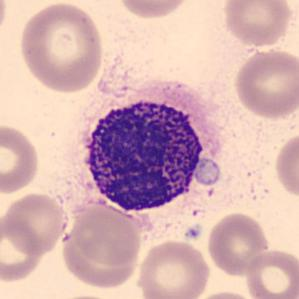Basophil: (72, 85, 213, 220)
Platelets: (182, 224, 204, 241)
RBC: (17, 0, 106, 95), (66, 201, 144, 268), (231, 47, 298, 120), (134, 238, 212, 299), (1, 190, 71, 255), (205, 210, 272, 277), (221, 0, 295, 48), (0, 212, 46, 284), (0, 122, 42, 195), (242, 247, 298, 299), (272, 131, 298, 200), (115, 0, 193, 21), (192, 156, 222, 187), (190, 289, 257, 299), (0, 0, 10, 45), (50, 293, 117, 299)
